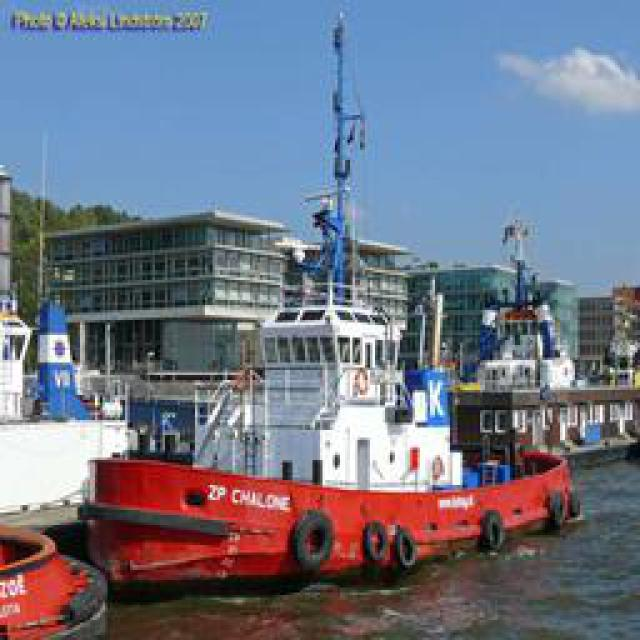Ship: (65, 21, 585, 586)
